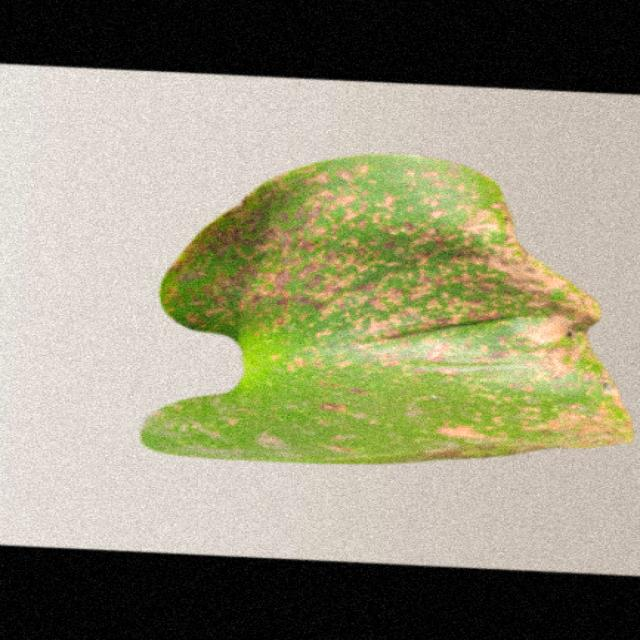daun berpenyakit bercak: (144, 156, 630, 464)
